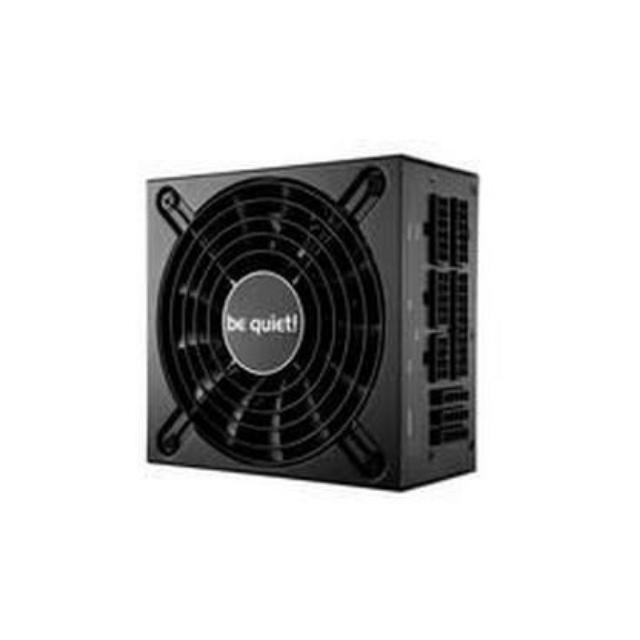PSU: (128, 146, 486, 516)
